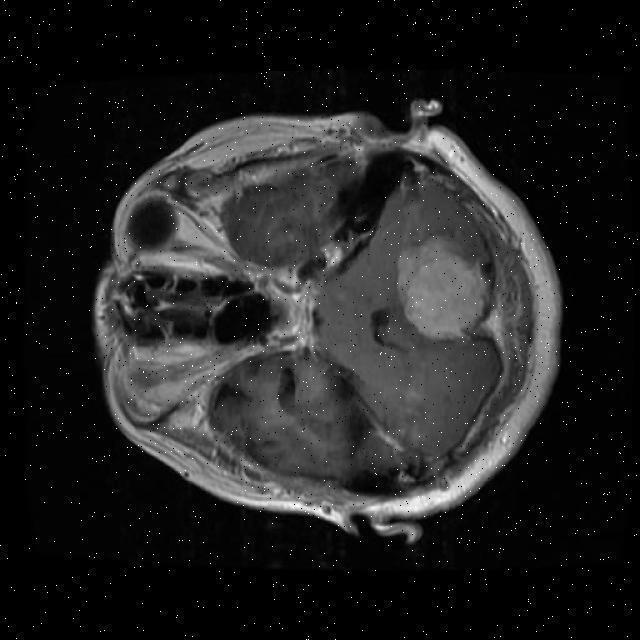Meningioma: (398, 238, 486, 338)
